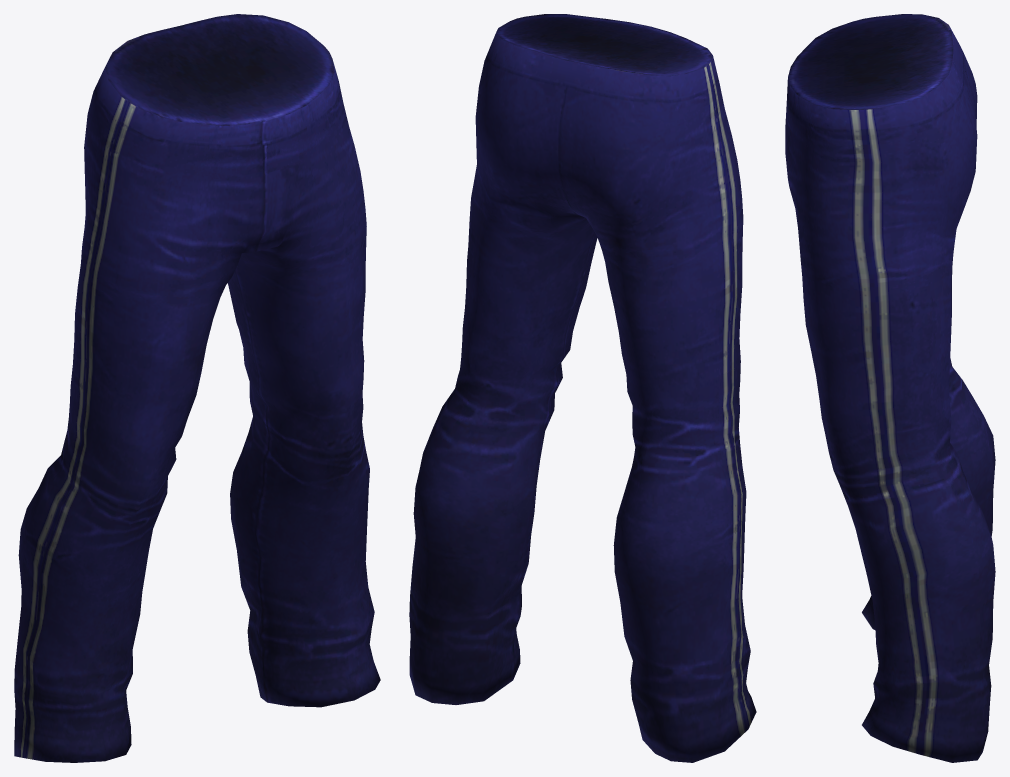
The model's file is SurvivorMale_Legs_Pants_StraightLeg_LOD0.glb.
The picture shows the model from 3 angles, left to right: view 1: azimuth 30°, elevation 25°; view 2: azimuth 150°, elevation 25°; view 3: azimuth 270°, elevation 25°; orthographic projection. The views are drawn at different scales.
Parts seen in each view (by area): view 1: Hoodie; view 2: Hoodie; view 3: Hoodie.
Boxes of the visible parts, <box> form: Hoodie: <box>14,14,380,762</box>; Hoodie: <box>409,14,756,762</box>; Hoodie: <box>785,14,995,762</box>.
Bounding box in the file's own units: 0.5314 × 1.02 × 0.2999.
Materials: 1 (1 with a texture image).
